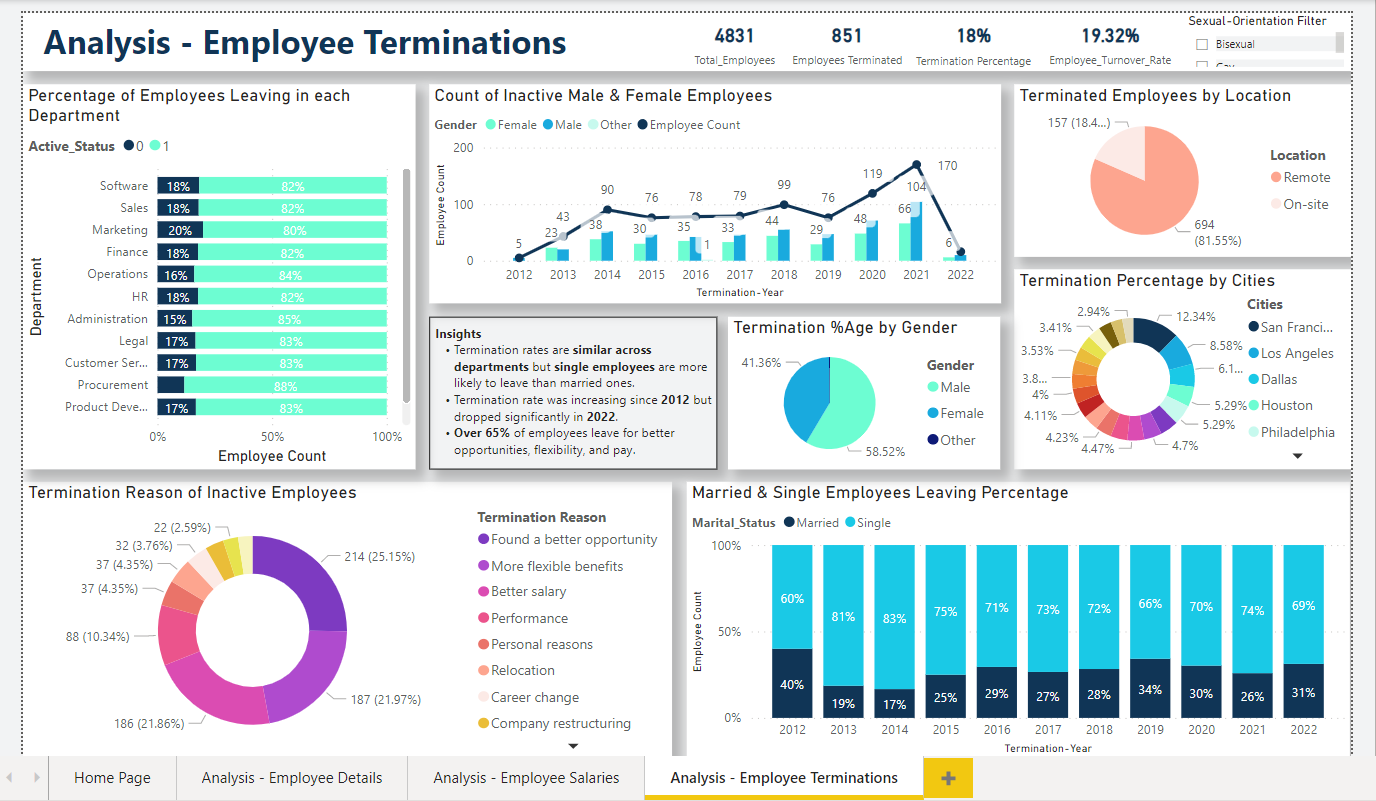

This screenshot's page, from the dashboard's own definition file:
{"tool":"powerbi","page":{"name":"Analysis - Employee Terminations","canvas":[1280,720],"ordinal":3},"visuals":[{"type":"textbox","box":[0,0,1280,56.2],"z":0},{"type":"card","fields":{"Values":["Calculations.Total_Employees"]},"box":[636.1,0,100,56.6],"z":1000},{"type":"donutChart","title":"Termination Reason of Inactive Employees","fields":{"Y":["CountNonNull(people_analytics_start.employee_id)"],"Category":["people_analytics_start.term_reason"]},"box":[0,452.3,625.9,267.7],"z":2000},{"type":"card","fields":{"Values":["Calculations.Inactive Percentage"]},"box":[853,0,126.5,57.8],"z":3000},{"type":"textbox","box":[391.2,292.5,277.5,147.5],"z":4000},{"type":"hundredPercentStackedColumnChart","title":"Married & Single Employees Leaving Percentage","fields":{"Category":["people_analytics_start.termination-year"],"Series":["people_analytics_start.marital_status"],"Y":["CountNonNull(people_analytics_start.employee_id)"]},"box":[639.2,452.3,639.2,267.7],"z":5000},{"type":"hundredPercentStackedBarChart","title":"Percentage of Employees Leaving in each Department","fields":{"Category":["people_analytics_start.department"],"Y":["CountNonNull(people_analytics_start.employee_id)"],"Series":["people_analytics_start.active_status"]},"box":[0,68.7,378.7,371.5],"z":6000},{"type":"lineClusteredColumnComboChart","title":"Count of Inactive Male & Female Employees","fields":{"Category":["people_analytics_start.termination-year"],"Y":["CountNonNull(people_analytics_start.employee_id)"],"Series":["people_analytics_start.gender"],"Y2":["CountNonNull(people_analytics_start.employee_id)"]},"box":[391.2,68.8,551.2,211.2],"z":7000},{"type":"pieChart","title":"Terminated Employees by Location","fields":{"Category":["people_analytics_start.location"],"Y":["CountNonNull(people_analytics_start.employee_id)"]},"box":[955.2,68.7,324.4,166.4],"z":8000},{"type":"donutChart","title":"Termination Percentage by Cities","fields":{"Y":["CountNonNull(people_analytics_start.employee_id)"],"Category":["people_analytics_start.location_city"]},"box":[955.2,247.2,324.4,193],"z":9000},{"type":"card","fields":{"Values":["Calculations.Inactive Employees"]},"box":[736.1,0,116.9,56.6],"z":10000},{"type":"pieChart","title":"Termination %Age by Gender","fields":{"Y":["CountNonNull(people_analytics_start.employee_id)"],"Category":["people_analytics_start.gender"]},"box":[680,292.5,262.5,147.5],"z":11000},{"type":"slicer","title":"Sexual-Orientation Filter","fields":{"Values":["people_analytics_start.sexual_orientation"]},"box":[1118,0,160.4,56.7],"z":11001},{"type":"card","fields":{"Values":["Calculations.Employee_Turnover_Rate"]},"box":[979.5,0,137.3,56.6],"z":11002}]}

Visuals, with their boxes on the page's 1280x720 design canvas (x1, y1, x2, y2). These are canvas units, not pixel positions in the 1376x801 screenshot, which may show the page scaled, cropped or inside an application window:
textbox: x1=0, y1=0, x2=1280, y2=56
card - Calculations.Total_Employees: x1=636, y1=0, x2=736, y2=57
"Termination Reason of Inactive Employees" donutChart: x1=0, y1=452, x2=626, y2=720
card - Calculations.Inactive Percentage: x1=853, y1=0, x2=980, y2=58
textbox: x1=391, y1=292, x2=669, y2=440
"Married & Single Employees Leaving Percentage" hundredPercentStackedColumnChart: x1=639, y1=452, x2=1278, y2=720
"Percentage of Employees Leaving in each Department" hundredPercentStackedBarChart: x1=0, y1=69, x2=379, y2=440
"Count of Inactive Male & Female Employees" lineClusteredColumnComboChart: x1=391, y1=69, x2=942, y2=280
"Terminated Employees by Location" pieChart: x1=955, y1=69, x2=1280, y2=235
"Termination Percentage by Cities" donutChart: x1=955, y1=247, x2=1280, y2=440
card - Calculations.Inactive Employees: x1=736, y1=0, x2=853, y2=57
"Termination %Age by Gender" pieChart: x1=680, y1=292, x2=942, y2=440
"Sexual-Orientation Filter" slicer: x1=1118, y1=0, x2=1278, y2=57
card - Calculations.Employee_Turnover_Rate: x1=980, y1=0, x2=1117, y2=57
